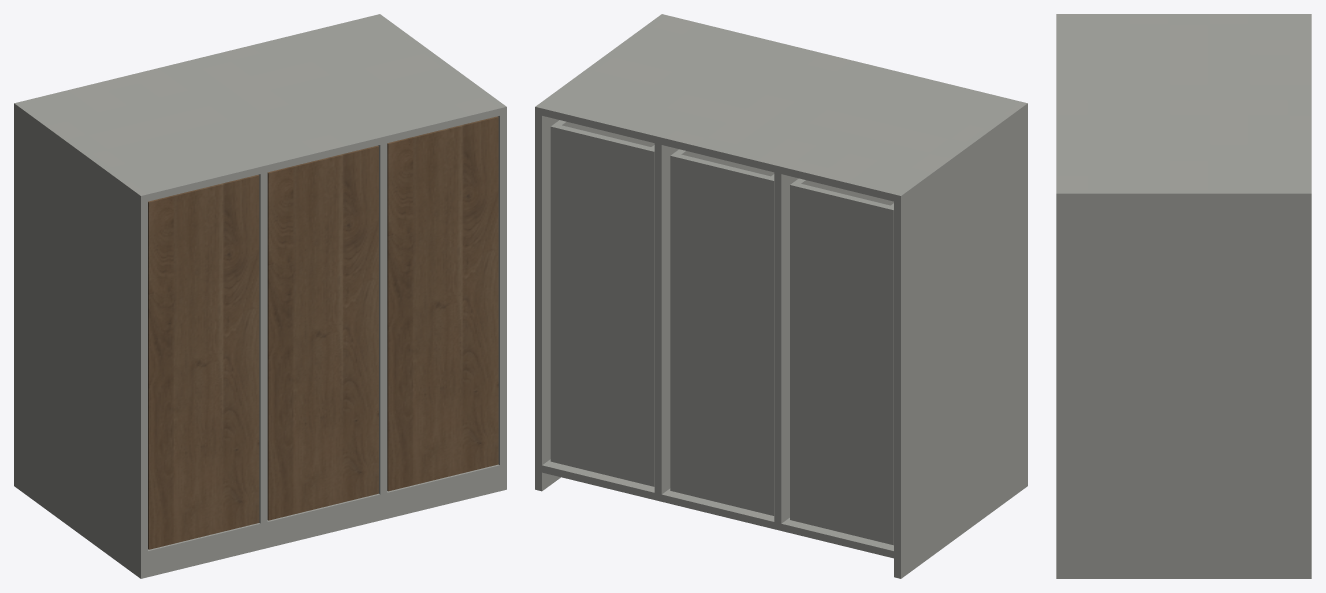
The model's file is meublep.glb.
3 views of the same model, side by side, from view 1: azimuth 30°, elevation 25°; view 2: azimuth 150°, elevation 25°; view 3: azimuth 270°, elevation 25° (orthographic).
Parts seen in each view (by area): view 1: world; view 2: world; view 3: world.
Part boxes in pixels (x1,y1,x2,y2): world: (14,14,506,578); world: (535,14,1027,578); world: (1056,14,1311,578).
Size of the model in its own units: 1 by 1 by 0.6.
1 material, 1 textured.
